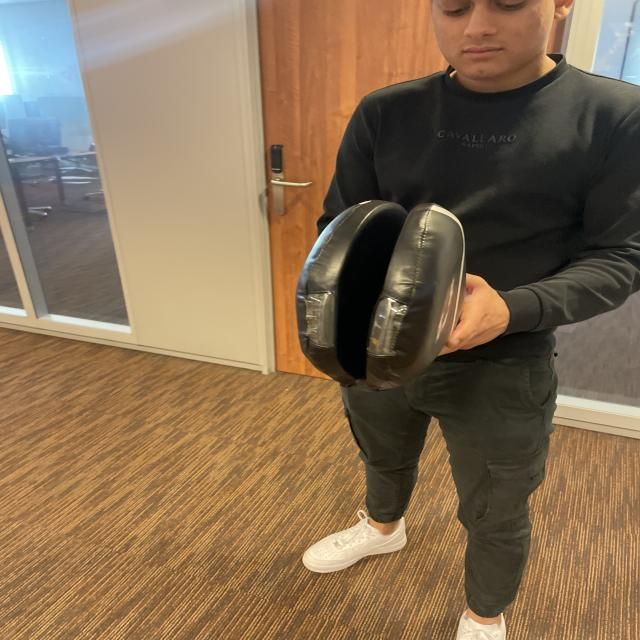paddle: (296, 200, 464, 386)
